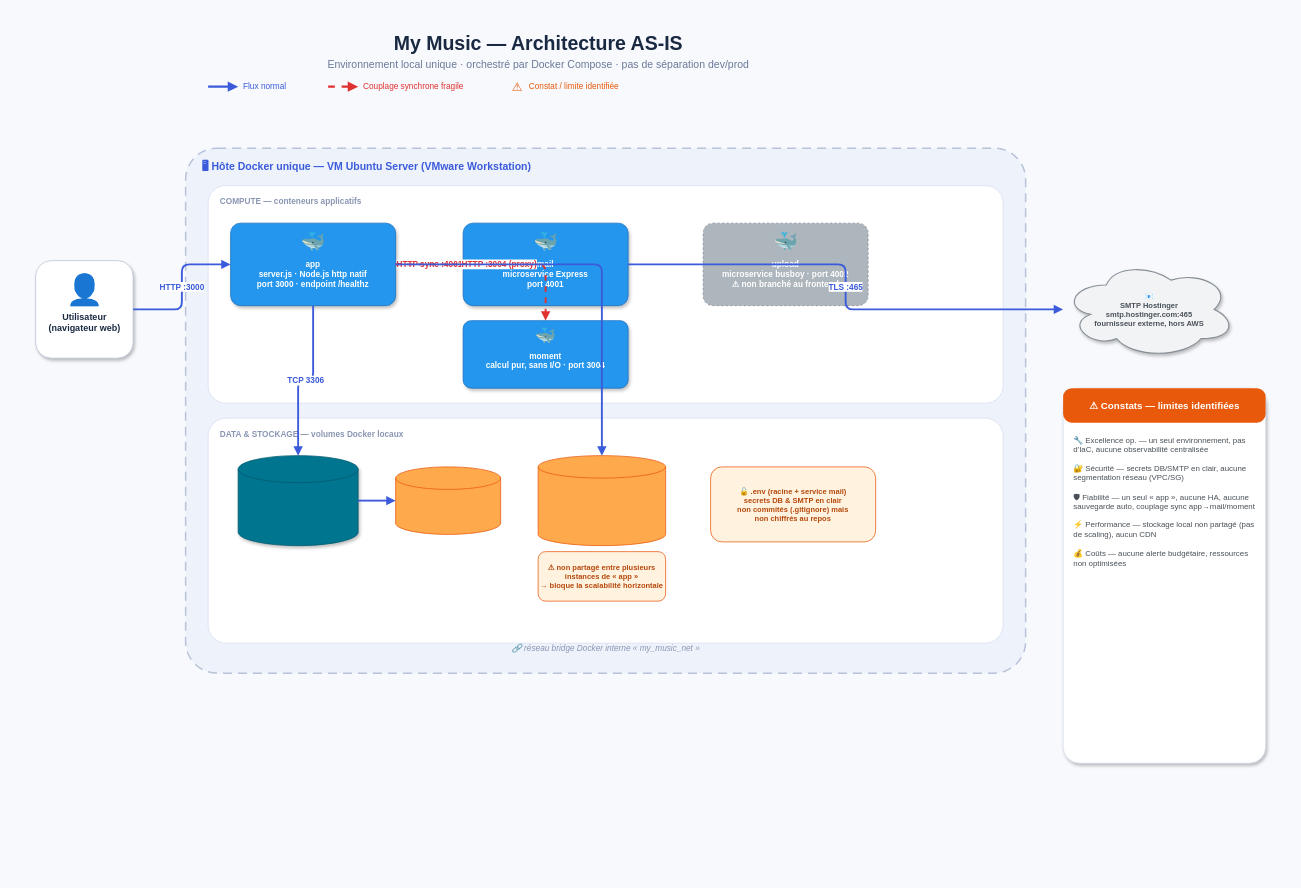
The diagram is 1301 pixels wide and 888 high, and some of its shapes have lost their labels. Here are the shapes that lost their labels. From the top down, the centre of each, then its label:
At [298,501]: "🗄 MySQL 8 users, musiques, likes, partages, news... port 3306".
At [448,500]: "💾 volume mysql_data".
At [601,500]: "💾 volume uploads_data (audio + pochettes)".
